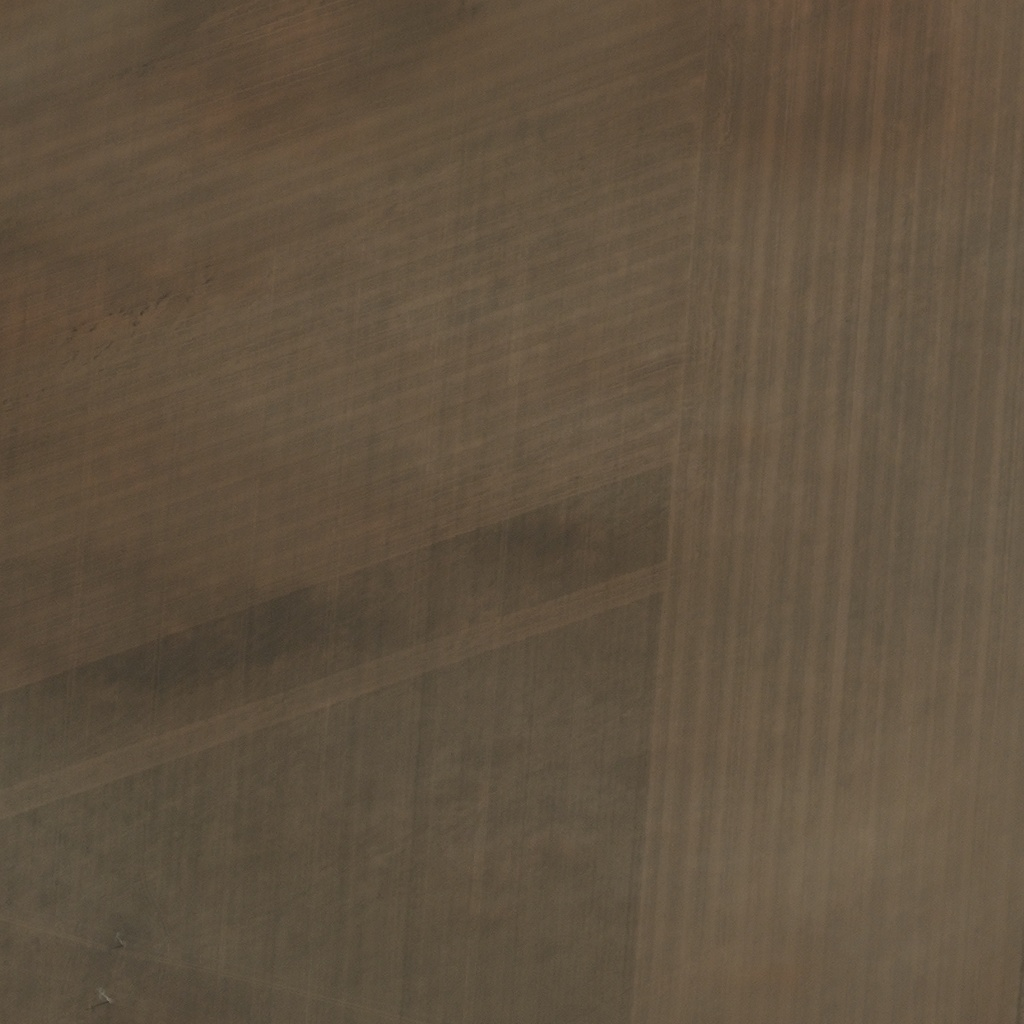4 un-classified: (60, 142, 72, 155), (260, 67, 272, 79)
